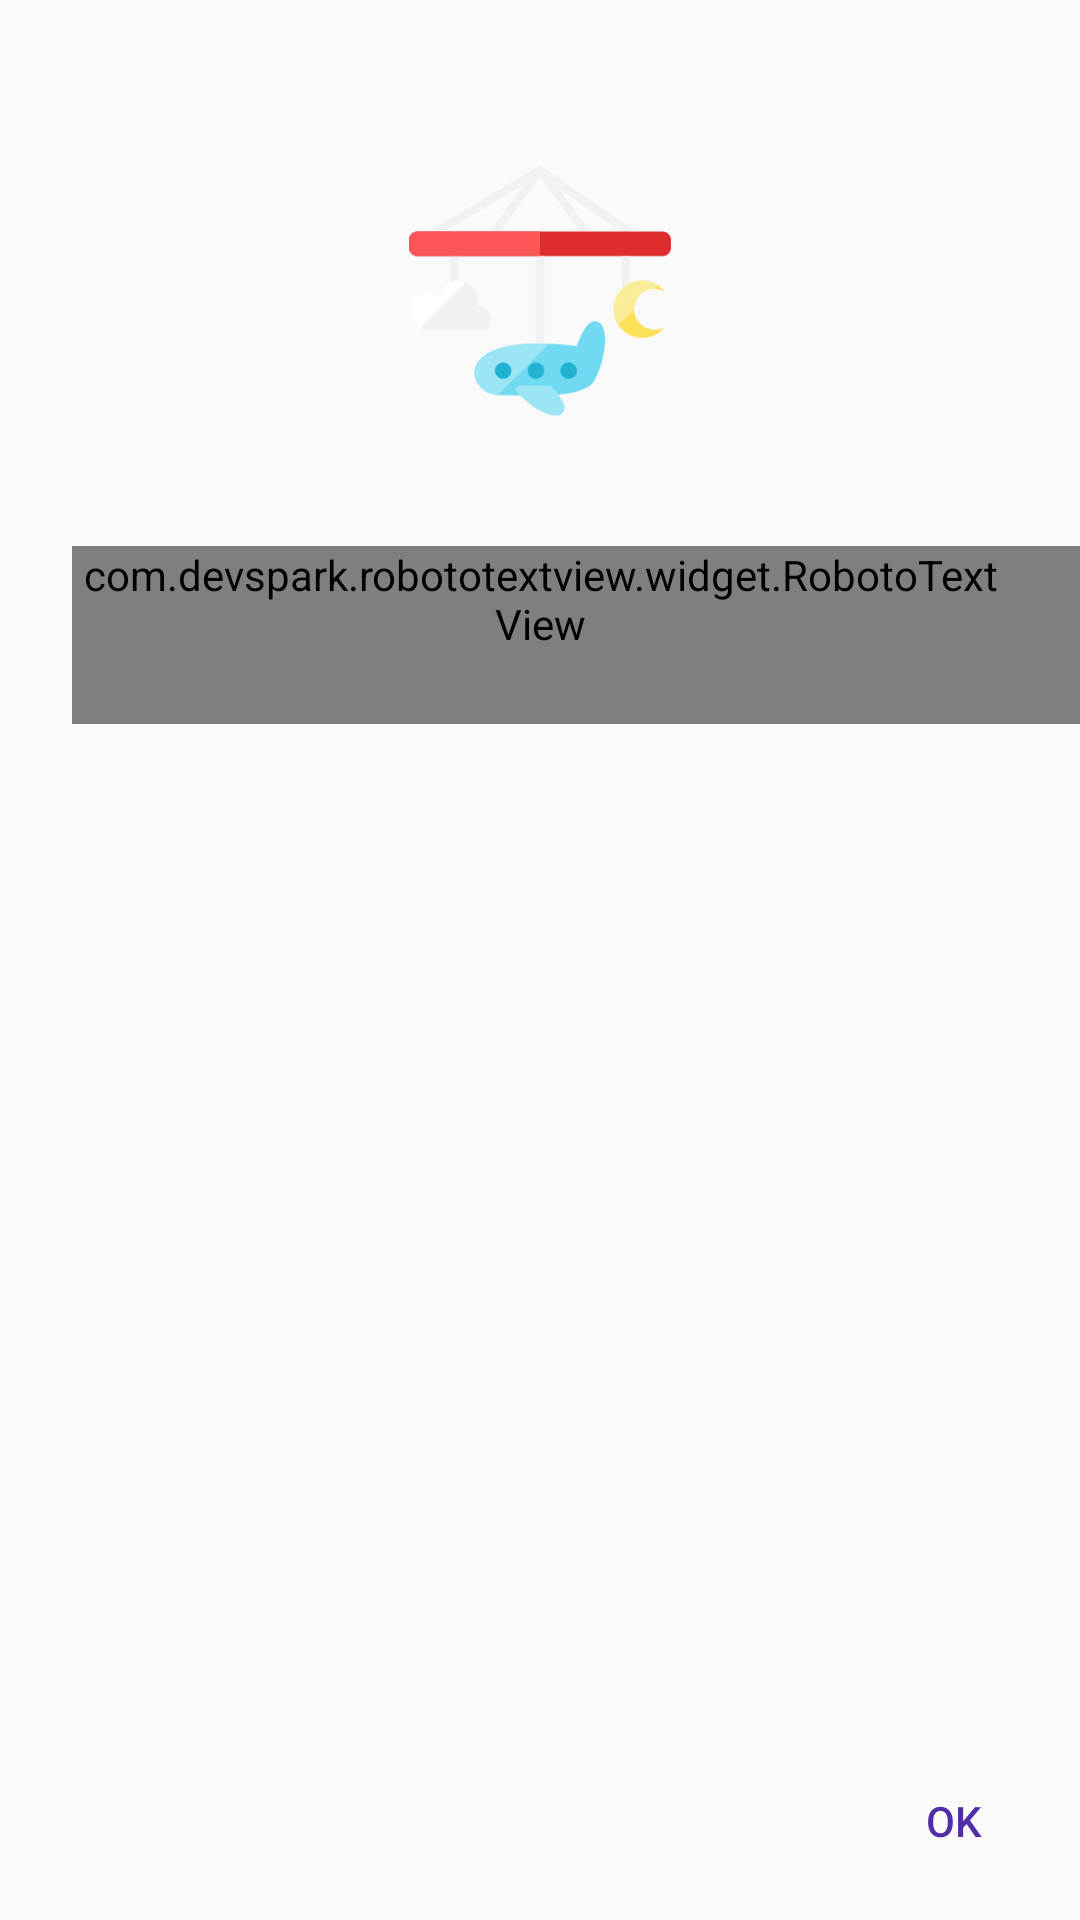

Where icons sit on this 1080px x 1920px app screen, as (x1, y1, x2, y2):
baby dialog: (409, 231, 671, 416)
